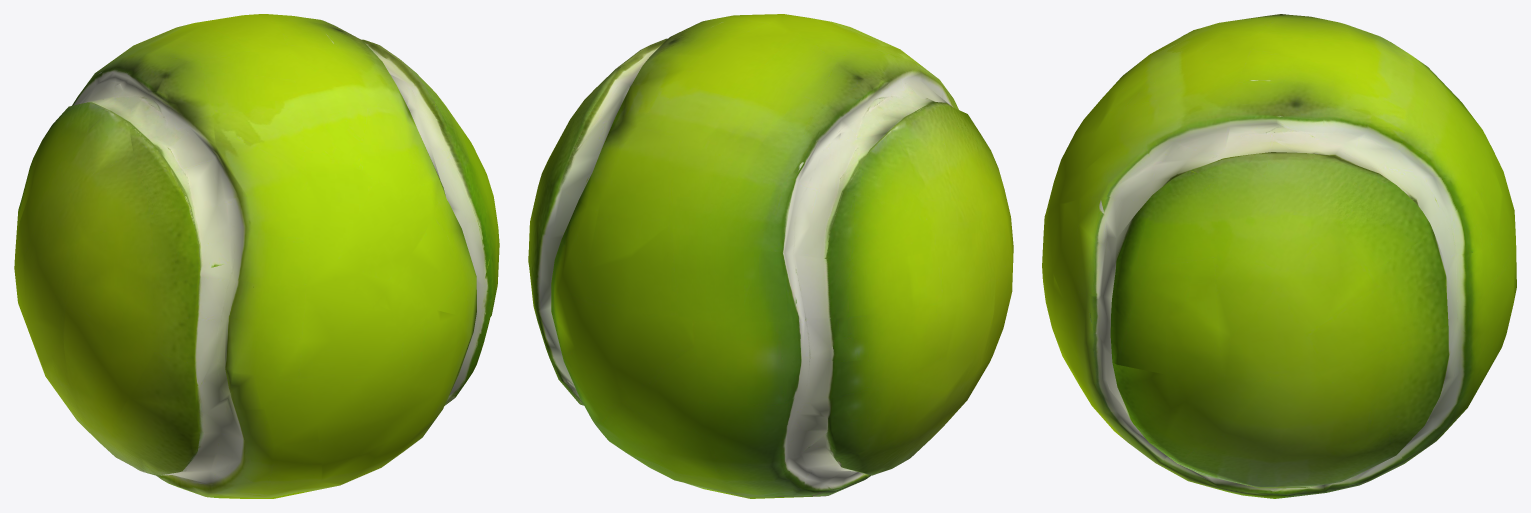
The model's file is bola-feltro.glb.
3 renders of one model, left to right at view 1: azimuth 30°, elevation 25°; view 2: azimuth 150°, elevation 25°; view 3: azimuth 270°, elevation 25°, orthographic.
Bounding box in the file's own units: 1.89 × 1.89 × 1.88.
Materials: 1 (1 with a texture image).
